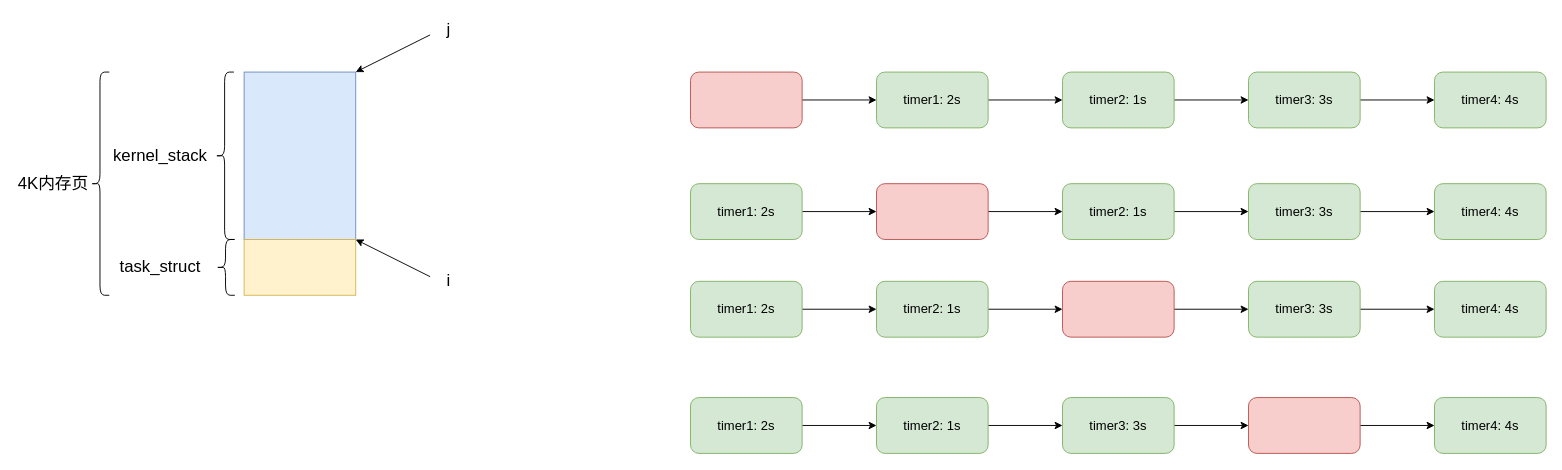
Some shapes in this 1562 by 470 pixel diagram are drawn without their labels. The centre of each missing label's shape, as x and y in pixels:
"timer5: 2s" belongs at point (1304, 425).
"timer5: 5s" belongs at point (1118, 308).
"timer5: 6s" belongs at point (932, 211).
"timer5: 8s" belongs at point (746, 99).
